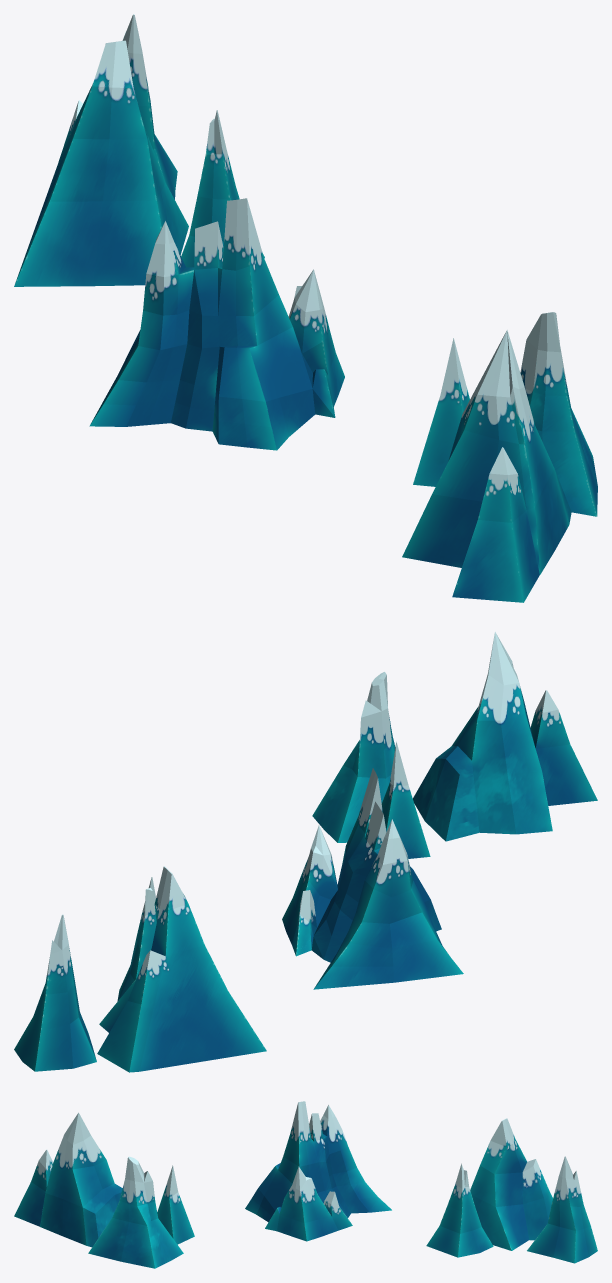
The model's file is snow_mountain_fill_tall.fbx.
3 renders of one model, top to bottom at view 1: azimuth 30°, elevation 25°; view 2: azimuth 150°, elevation 25°; view 3: azimuth 270°, elevation 25°, orthographic. The views are drawn at different scales.
Parts seen in each view (by area): view 1: Mountain_fill_1, Mountain_fill_2.a, Mountain_fill_3.a, Mountain_fill_2.b, Mountain_fill_2.c, Mountain_fill_3.b, Mountain_fill_3.c; view 2: Mountain_fill_1, Mountain_fill_2.a, Mountain_fill_3.a, Mountain_fill_3.c, Mountain_fill_2.b, Mountain_fill_2.c, Mountain_fill_3.b; view 3: Mountain_fill_1, Mountain_fill_2.a, Mountain_fill_3.a, Mountain_fill_2.b, Mountain_fill_3.c, Mountain_fill_3.b, Mountain_fill_2.c.
Boxes of the visible parts, box(x1,y1,x2,y2) form: Mountain_fill_1: box(89, 198, 344, 450); Mountain_fill_2.a: box(402, 330, 571, 602); Mountain_fill_3.a: box(14, 40, 188, 286); Mountain_fill_2.b: box(520, 312, 597, 516); Mountain_fill_2.c: box(413, 338, 469, 486); Mountain_fill_3.b: box(181, 110, 264, 267); Mountain_fill_3.c: box(122, 14, 177, 199); Mountain_fill_1: box(282, 768, 463, 989); Mountain_fill_2.a: box(413, 632, 597, 841); Mountain_fill_3.a: box(97, 866, 266, 1072); Mountain_fill_3.c: box(14, 914, 96, 1071); Mountain_fill_2.b: box(312, 672, 395, 842); Mountain_fill_2.c: box(381, 741, 430, 858); Mountain_fill_3.b: box(117, 877, 156, 1001); Mountain_fill_1: box(245, 1101, 391, 1241); Mountain_fill_2.a: box(14, 1112, 122, 1247); Mountain_fill_3.a: box(470, 1118, 552, 1250); Mountain_fill_2.b: box(88, 1156, 183, 1268); Mountain_fill_3.c: box(527, 1156, 597, 1263); Mountain_fill_3.b: box(426, 1163, 493, 1257); Mountain_fill_2.c: box(157, 1165, 194, 1244).
Bounding box in the file's own units: 3574 × 2145 × 9813.
